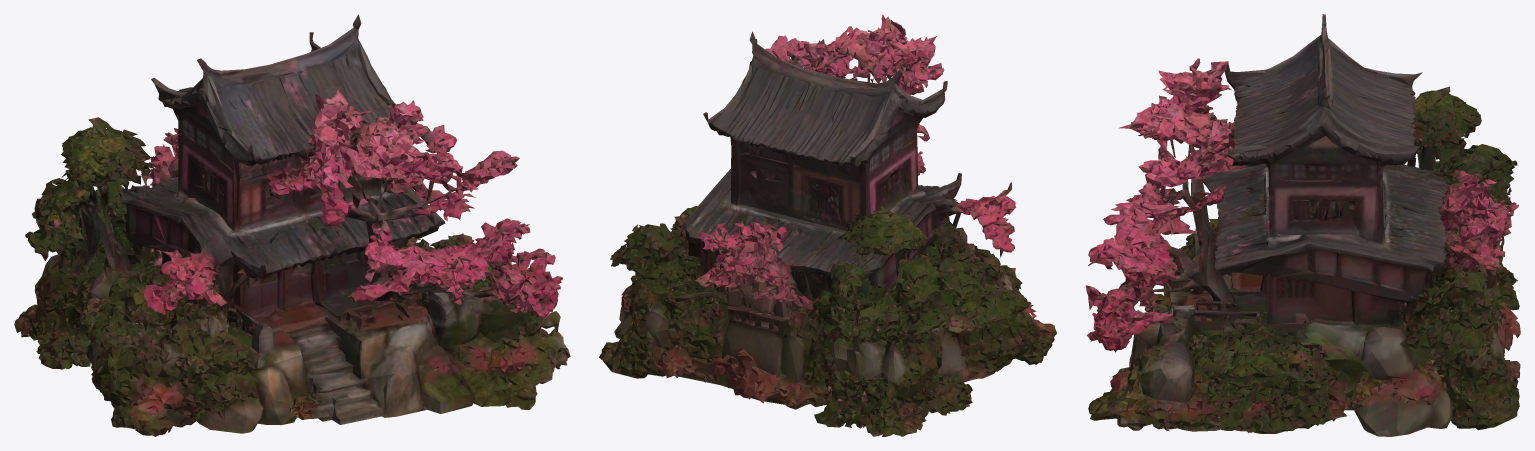
File: lib_mtn_house.glb
The picture shows the model from 3 angles, left to right: view 1: azimuth 30°, elevation 25°; view 2: azimuth 150°, elevation 25°; view 3: azimuth 270°, elevation 25°; orthographic projection. The views are drawn at different scales.
Parts seen in each view (by area): view 1: output_unwrapped; view 2: output_unwrapped; view 3: output_unwrapped.
Part boxes in pixels (left/top/right/bottom): output_unwrapped: left=14, top=14, right=570, bottom=436; output_unwrapped: left=599, top=14, right=1056, bottom=436; output_unwrapped: left=1085, top=14, right=1520, bottom=436.
Size of the model in its own units: 2 by 1.58 by 1.99.
1 material, 1 textured.
